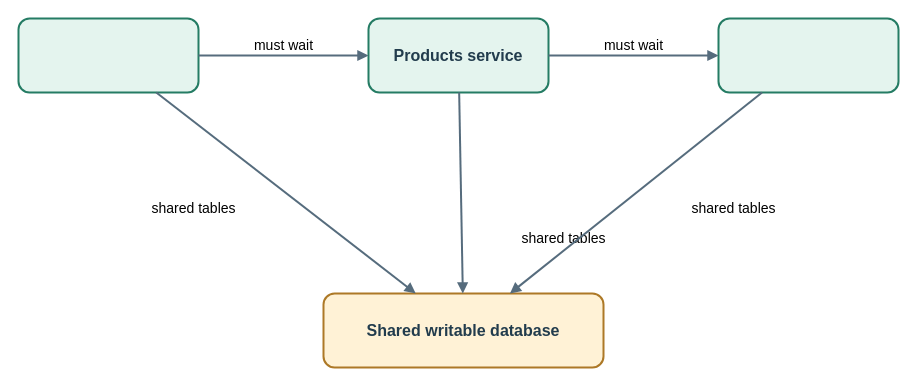
This 916x385 diagram has some shape labels left out. The shapes that lost their labels are listed below. From the top down, each one's centre as x and y in pixels, then its label:
At (x=108, y=55): "Orders service".
At (x=808, y=55): "Payments service".
